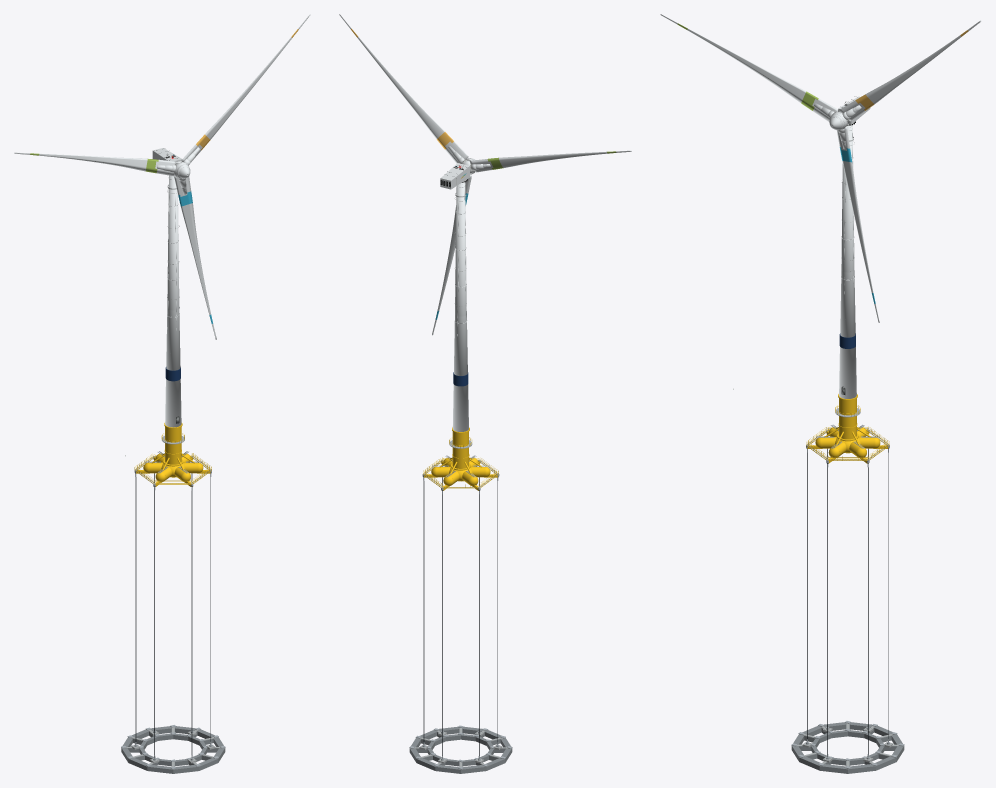
File: plataforma_tensores.glb
3 renders of one model, left to right at view 1: azimuth 30°, elevation 25°; view 2: azimuth 150°, elevation 25°; view 3: azimuth 330°, elevation 25°, orthographic. The views are drawn at different scales.
Parts seen in each view (by area): view 1: TOWER_MONOLITH_continuous_metal_skin.001, torre_tubular_metalica_conica_escala_precisa_superdetallada., ANILLO_EXTERIOR_POLIGONAL, pala_1_70m_separada_0_grados_escala_precisa.001, pala_2_70m_separada_120_grados_escala_precisa.001, pala_3_70m_separada_240_grados_escala_precisa.001, ANILLO_INTERIOR_POLIGONAL, CUELLO_CENTRAL_AMARILLO, TENSOR_VERTICAL_3, TENSOR_VERTICAL_5; view 2: TOWER_MONOLITH_continuous_metal_skin.001, torre_tubular_metalica_conica_escala_precisa_superdetallada., ANILLO_EXTERIOR_POLIGONAL, pala_3_70m_separada_240_grados_escala_precisa.001, pala_2_70m_separada_120_grados_escala_precisa.001, ANILLO_INTERIOR_POLIGONAL, pala_1_70m_separada_0_grados_escala_precisa.001, CUELLO_CENTRAL_AMARILLO, TENSOR_VERTICAL_1; view 3: TOWER_MONOLITH_continuous_metal_skin.001, ANILLO_EXTERIOR_POLIGONAL, pala_2_70m_separada_120_grados_escala_precisa.001, torre_tubular_metalica_conica_escala_precisa_superdetallada., pala_3_70m_separada_240_grados_escala_precisa.001, pala_1_70m_separada_0_grados_escala_precisa.001, ANILLO_INTERIOR_POLIGONAL, CUELLO_CENTRAL_AMARILLO.
Part boxes in pixels (bbox=[...]): TOWER_MONOLITH_continuous_metal_skin.001: bbox=[165, 308, 181, 427]; torre_tubular_metalica_conica_escala_precisa_superdetallada.: bbox=[167, 175, 179, 310]; ANILLO_EXTERIOR_POLIGONAL: bbox=[121, 726, 225, 773]; pala_1_70m_separada_0_grados_escala_precisa.001: bbox=[174, 176, 216, 339]; pala_2_70m_separada_120_grados_escala_precisa.001: bbox=[14, 152, 176, 176]; pala_3_70m_separada_240_grados_escala_precisa.001: bbox=[181, 14, 310, 162]; ANILLO_INTERIOR_POLIGONAL: bbox=[139, 733, 206, 766]; CUELLO_CENTRAL_AMARILLO: bbox=[165, 427, 181, 464]; TENSOR_VERTICAL_3: bbox=[135, 477, 136, 741]; TENSOR_VERTICAL_5: bbox=[191, 491, 192, 755]; TOWER_MONOLITH_continuous_metal_skin.001: bbox=[452, 314, 468, 431]; torre_tubular_metalica_conica_escala_precisa_superdetallada.: bbox=[455, 182, 466, 316]; ANILLO_EXTERIOR_POLIGONAL: bbox=[409, 726, 512, 773]; pala_3_70m_separada_240_grados_escala_precisa.001: bbox=[339, 14, 468, 163]; pala_2_70m_separada_120_grados_escala_precisa.001: bbox=[470, 150, 631, 172]; ANILLO_INTERIOR_POLIGONAL: bbox=[427, 734, 494, 766]; pala_1_70m_separada_0_grados_escala_precisa.001: bbox=[432, 174, 471, 335]; CUELLO_CENTRAL_AMARILLO: bbox=[452, 431, 468, 468]; TENSOR_VERTICAL_1: bbox=[423, 481, 424, 742]; TOWER_MONOLITH_continuous_metal_skin.001: bbox=[839, 270, 856, 398]; ANILLO_EXTERIOR_POLIGONAL: bbox=[791, 722, 904, 773]; pala_2_70m_separada_120_grados_escala_precisa.001: bbox=[660, 14, 838, 121]; torre_tubular_metalica_conica_escala_precisa_superdetallada.: bbox=[841, 124, 854, 272]; pala_3_70m_separada_240_grados_escala_precisa.001: bbox=[839, 20, 981, 121]; pala_1_70m_separada_0_grados_escala_precisa.001: bbox=[836, 126, 879, 322]; ANILLO_INTERIOR_POLIGONAL: bbox=[811, 730, 884, 765]; CUELLO_CENTRAL_AMARILLO: bbox=[839, 398, 856, 439].
Size of the model in its own units: 123 by 281 by 39.35.
